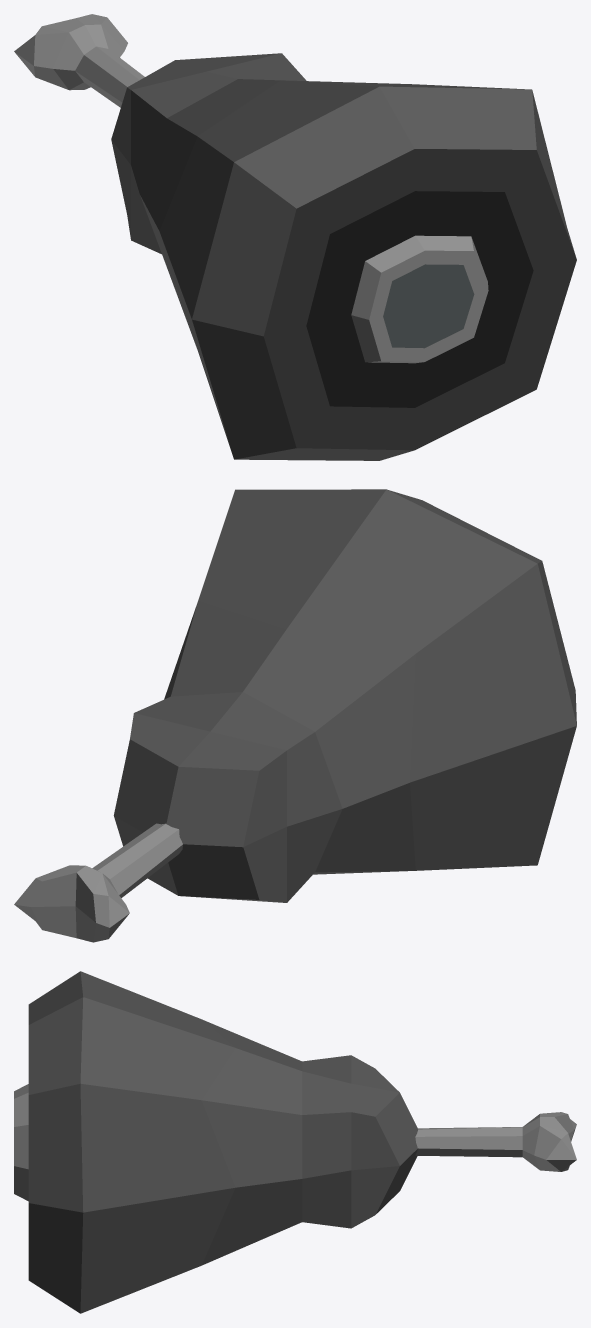
The model's file is Large Burnt Drumstick.fbx.
The picture shows the model from 3 angles, top to bottom: view 1: azimuth 30°, elevation 25°; view 2: azimuth 150°, elevation 25°; view 3: azimuth 270°, elevation 25°; orthographic projection. The views are drawn at different scales.
Parts seen in each view (by area): view 1: Large Burnt Drumstick; view 2: Large Burnt Drumstick; view 3: Large Burnt Drumstick.
Part boxes in pixels (bbox=[...]): Large Burnt Drumstick: bbox=[14, 14, 576, 460]; Large Burnt Drumstick: bbox=[14, 489, 576, 942]; Large Burnt Drumstick: bbox=[14, 971, 576, 1313].
Size of the model in its own units: 21.46 by 20.45 by 36.03.
